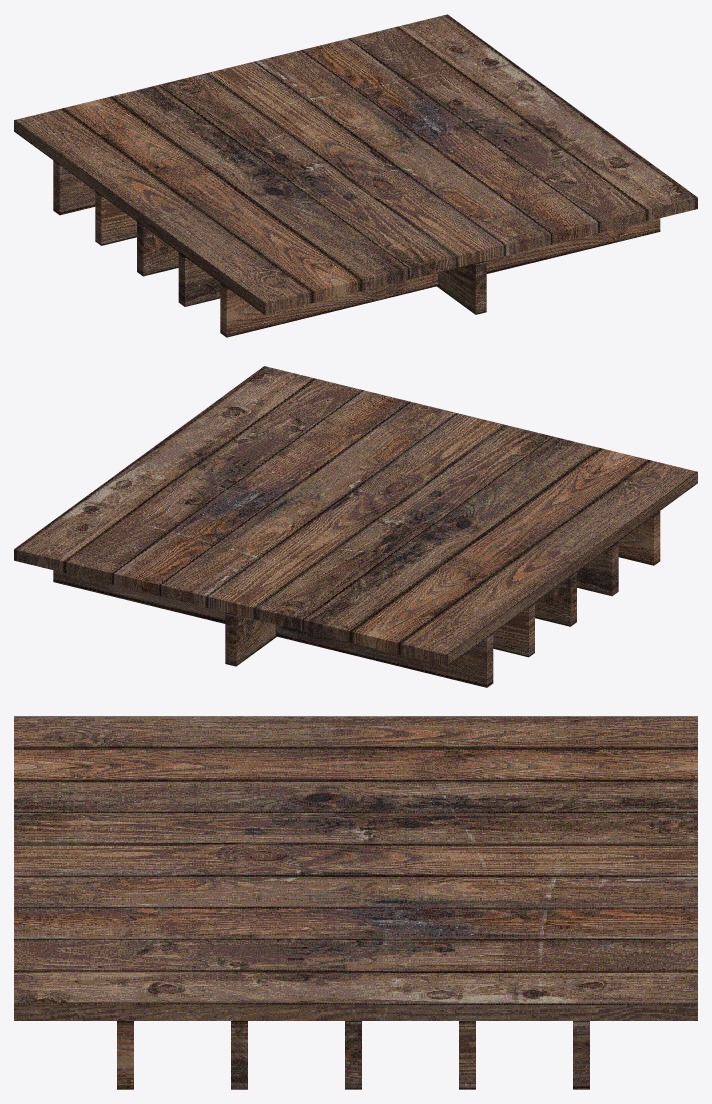
File: floor-planks-braced.glb
3 renders of one model, top to bottom at view 1: azimuth 30°, elevation 25°; view 2: azimuth 150°, elevation 25°; view 3: azimuth 270°, elevation 25°, orthographic. The views are drawn at different scales.
Visible parts, largest first — view 1: floor-planks-braced.001; view 2: floor-planks-braced.001; view 3: floor-planks-braced.001.
Boxes of the visible parts, box(x1,y1,x2,y2) form: floor-planks-braced.001: box(14, 14, 697, 337); floor-planks-braced.001: box(14, 366, 697, 687); floor-planks-braced.001: box(14, 716, 697, 1089).
Bounding box in the file's own units: 2 × 0.2782 × 2.
1 material, 1 textured.
